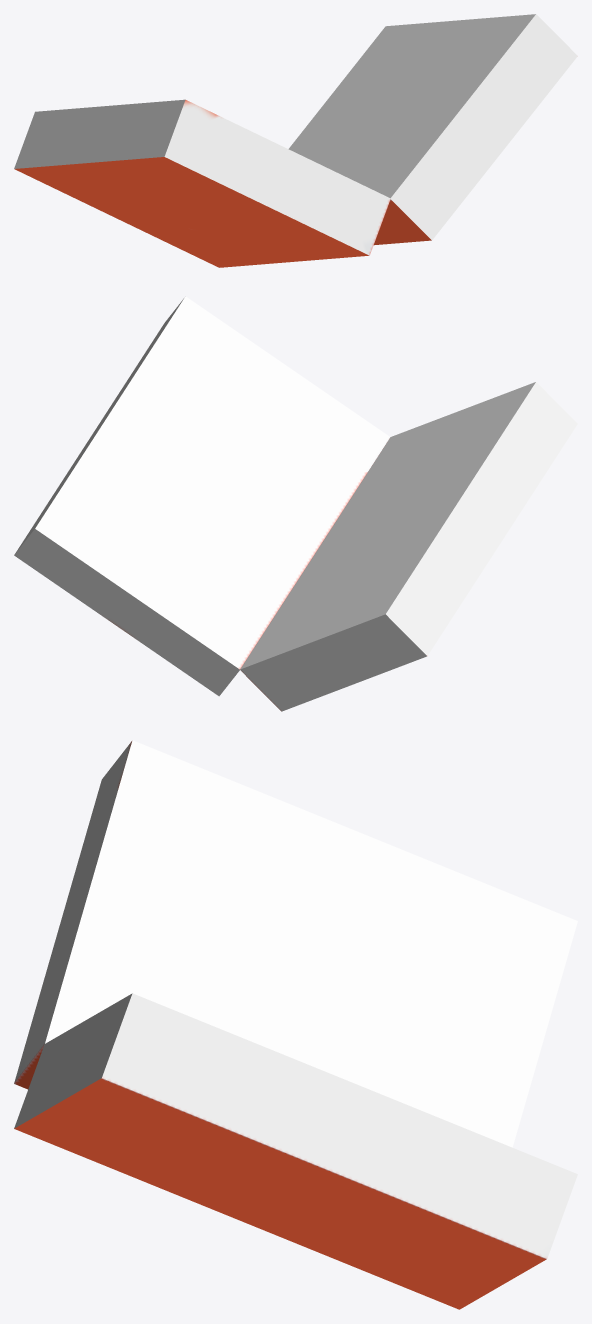
File: spellbook.obj
3 renders of one model, top to bottom at view 1: azimuth 30°, elevation 25°; view 2: azimuth 150°, elevation 25°; view 3: azimuth 270°, elevation 25°, orthographic. The views are drawn at different scales.
Visible parts, largest first — view 1: 立方体; view 2: 立方体; view 3: 立方体.
Part boxes in pixels (x1=…): 立方体: x1=14, y1=14, x2=577, y2=267; 立方体: x1=14, y1=296, x2=577, y2=711; 立方体: x1=14, y1=740, x2=577, y2=1309.
Size of the model in its own units: 1.3 by 0.8562 by 1.04.
Materials: 1 (1 with a texture image).
